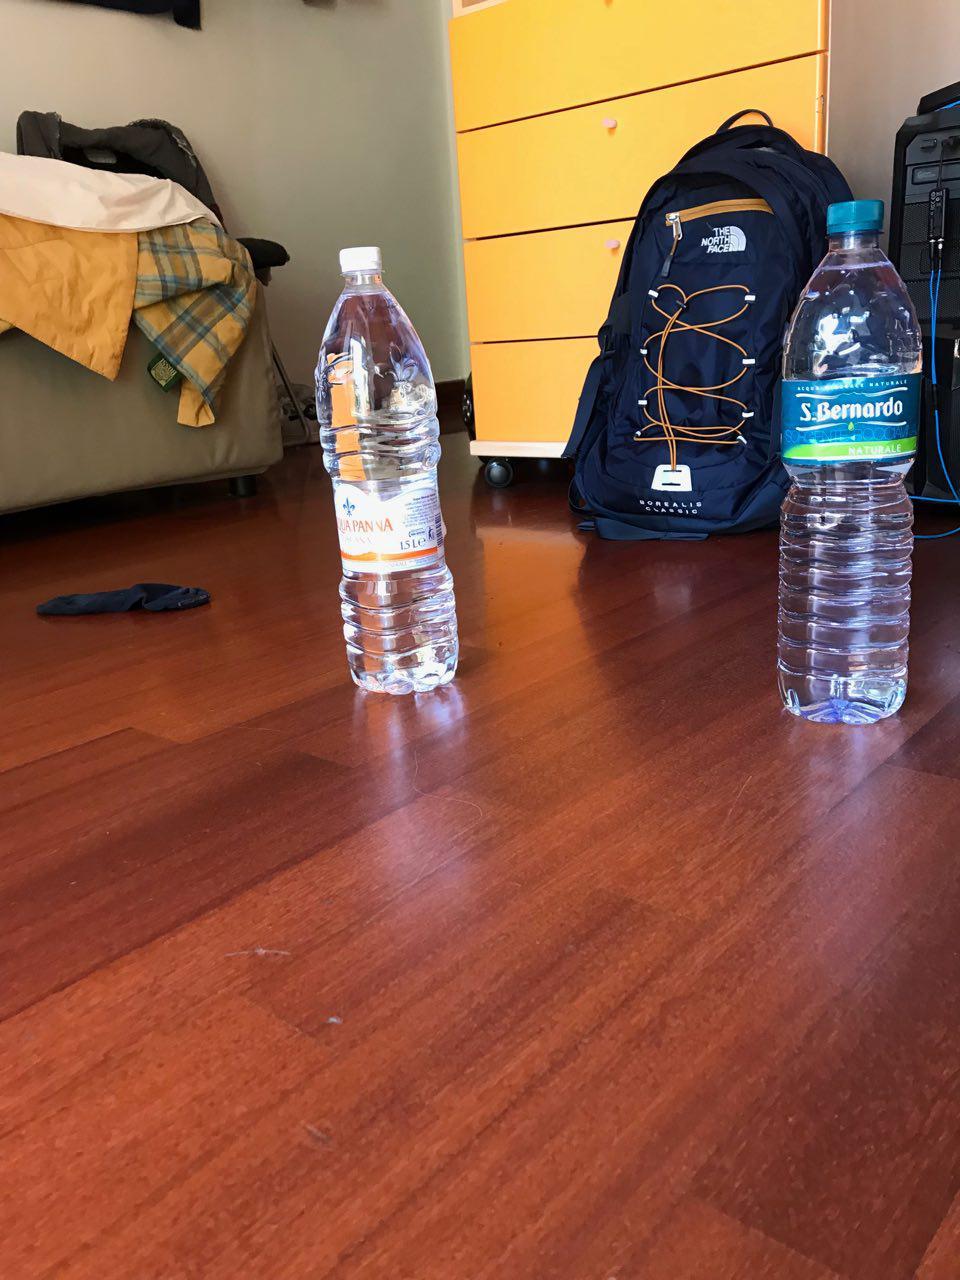san_bernardo: (775, 196, 923, 726)
